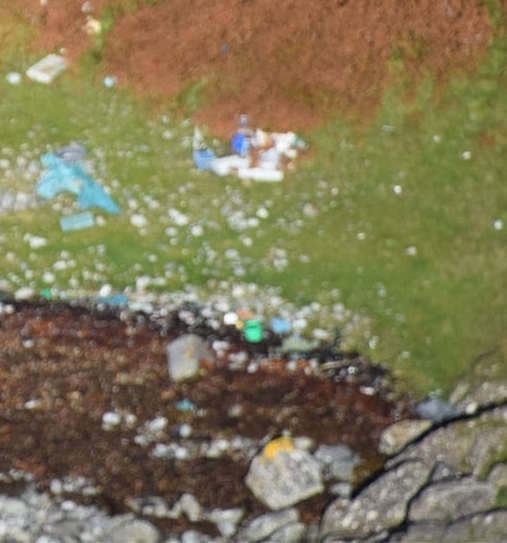net: (32, 146, 123, 213)
together_barrel: (36, 252, 306, 345), (182, 111, 307, 188)
white_in_green: (4, 23, 92, 109), (157, 376, 216, 428)
